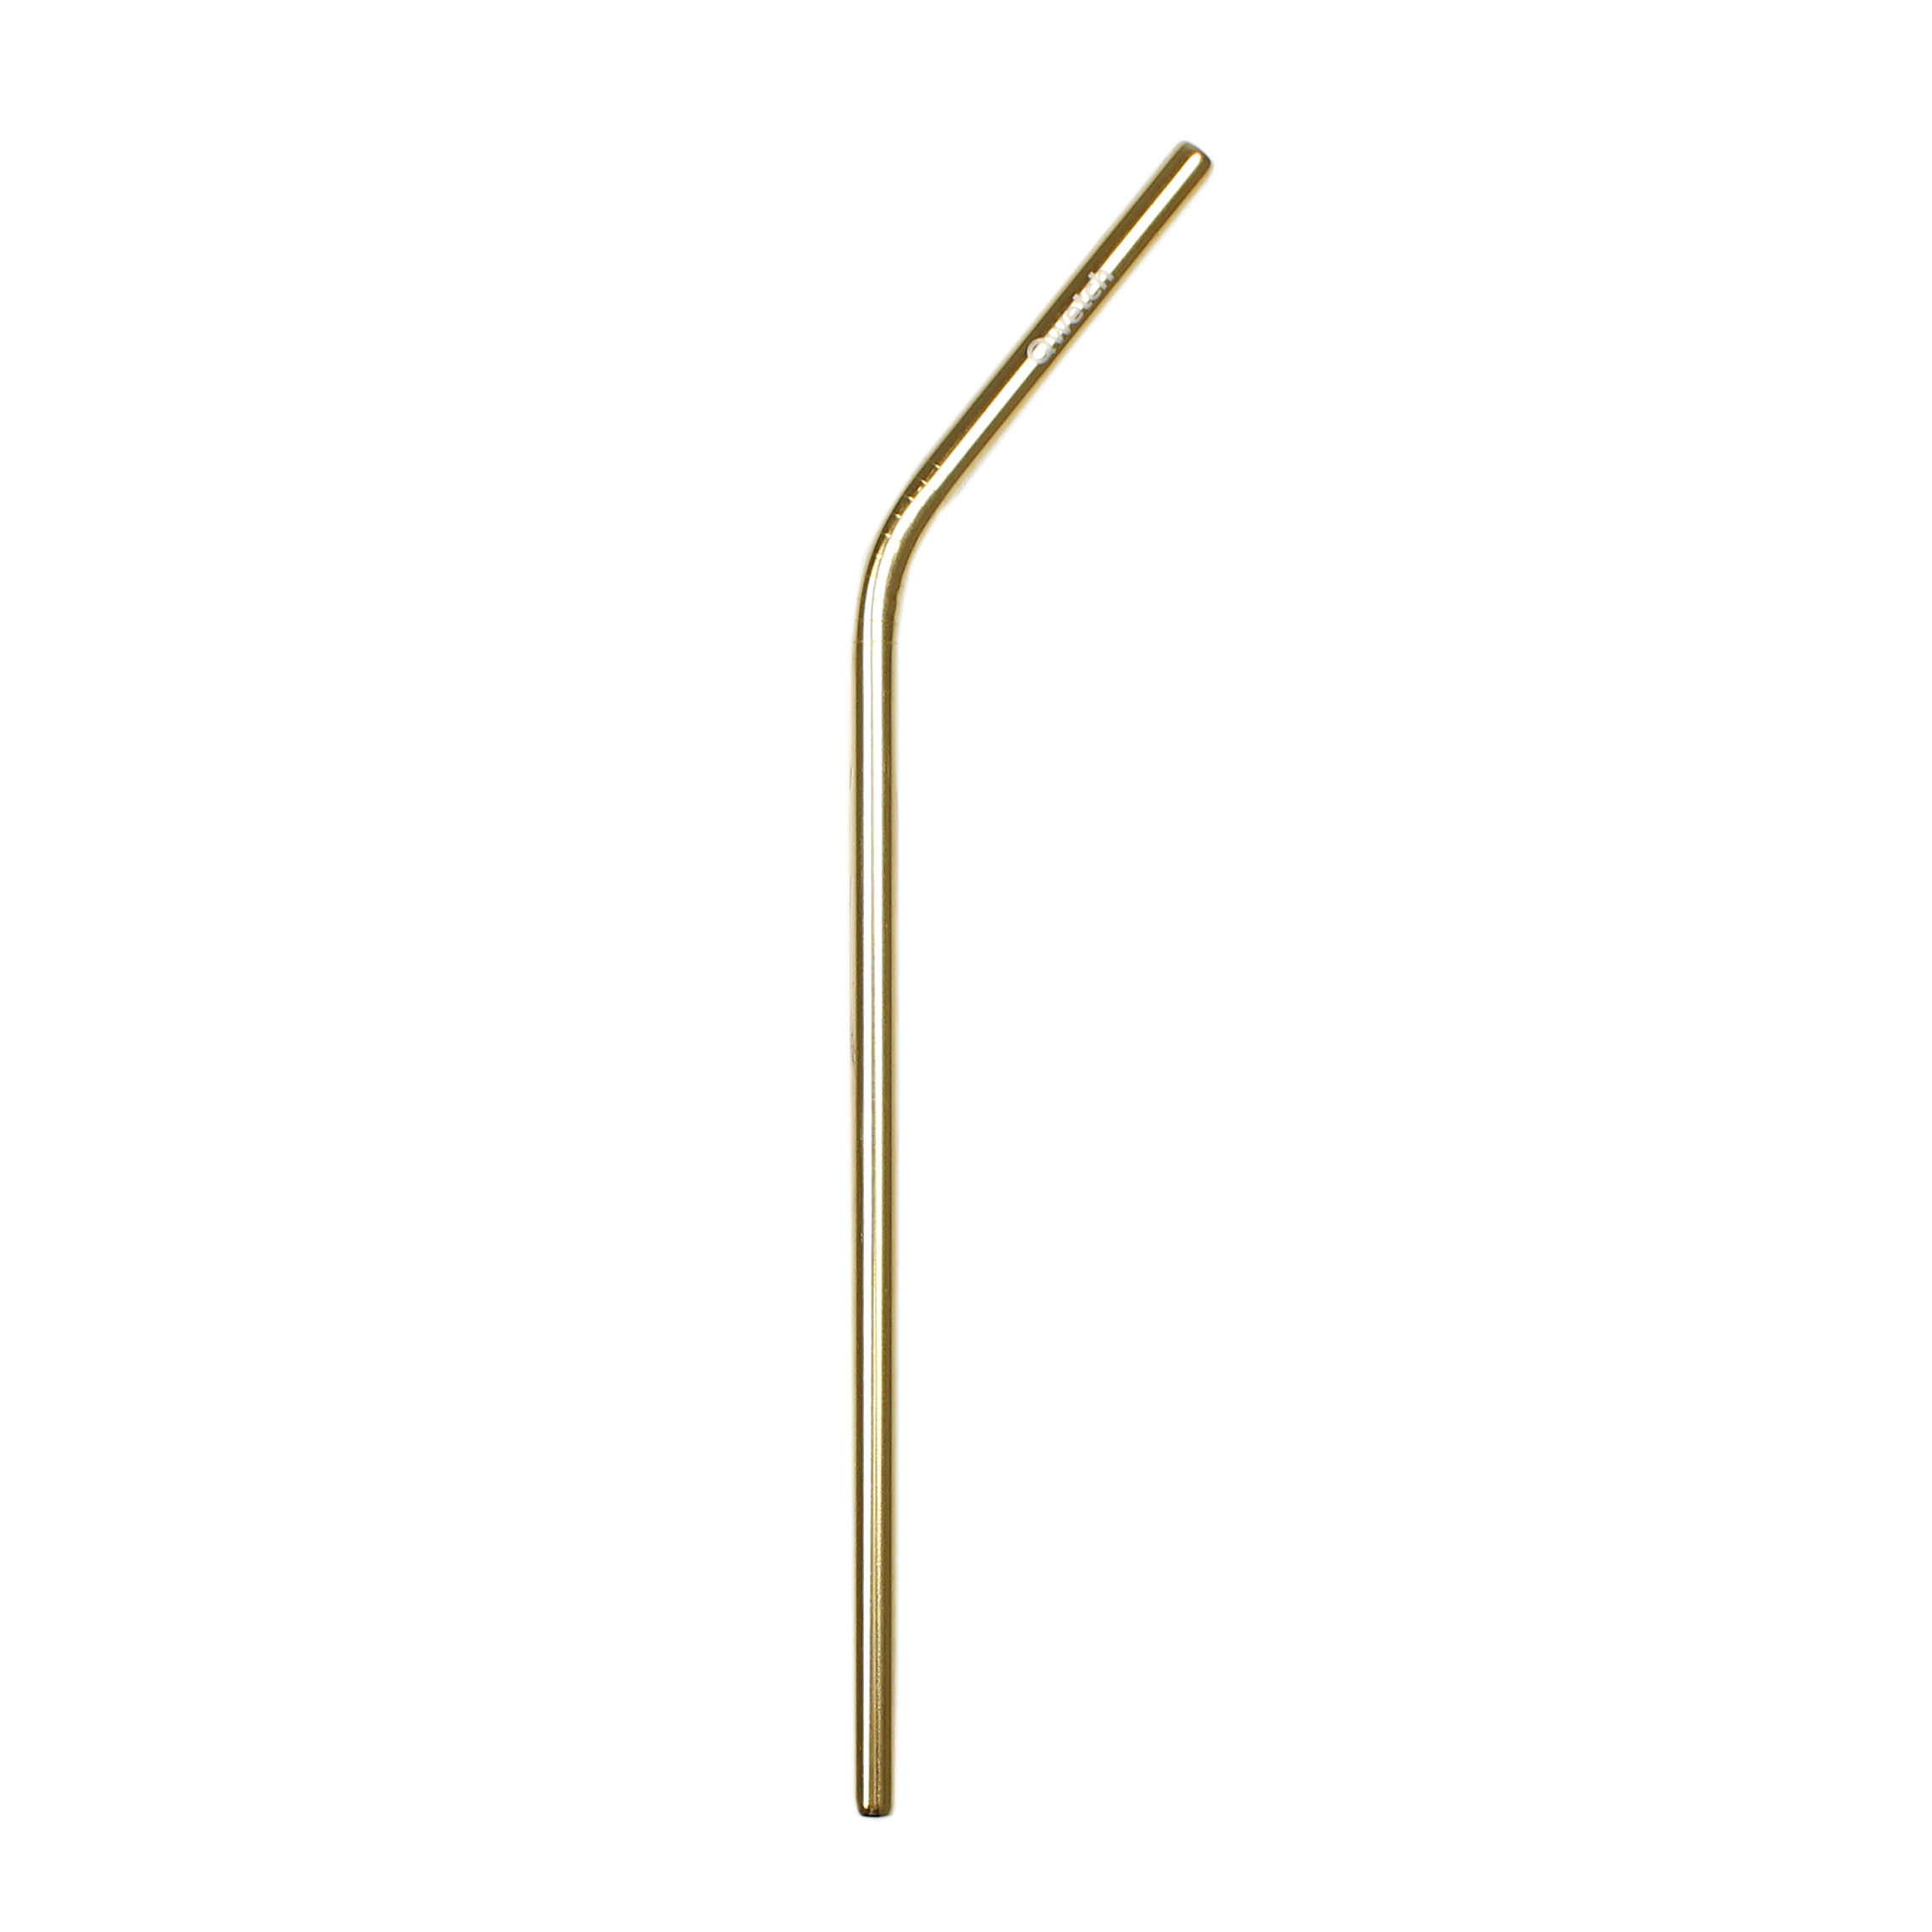Drinking Straw: (833, 129, 1223, 1826)
